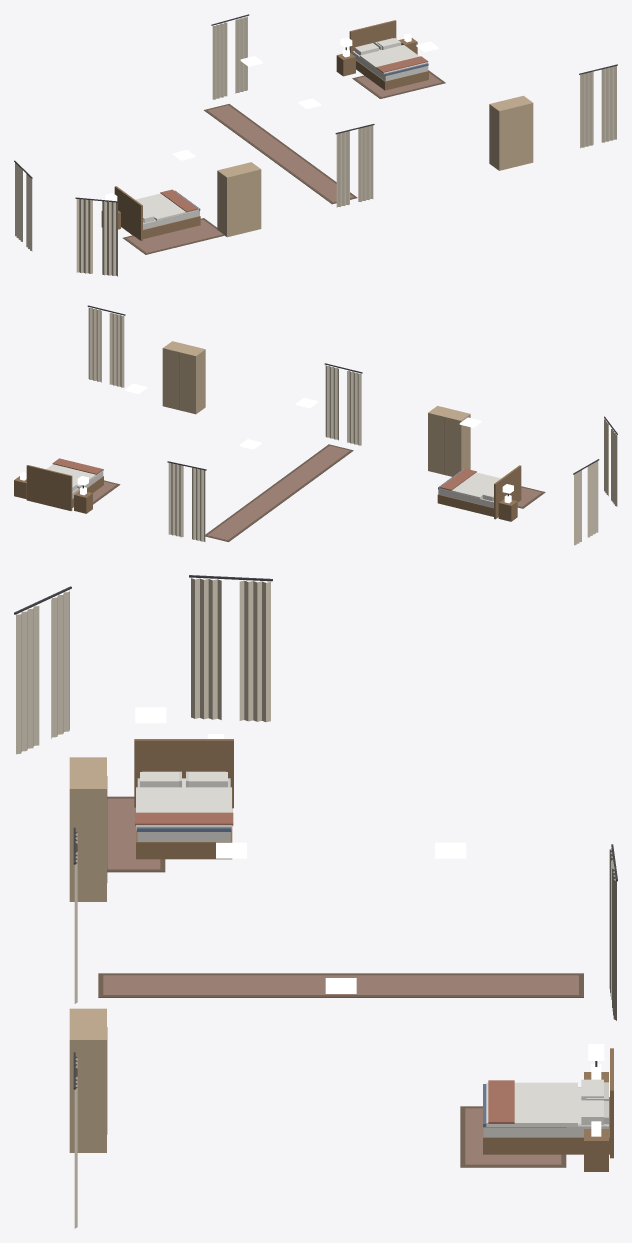
File: fine-s1.glb
3 renders of one model, top to bottom at view 1: azimuth 30°, elevation 25°; view 2: azimuth 150°, elevation 25°; view 3: azimuth 270°, elevation 25°, orthographic. The views are drawn at different scales.
Parts seen in each view (by area): view 1: soft-s1, dresser.001, dresser.000, bed-frame.001, bed-frame.000, nightstand.001; view 2: soft-s1, dresser.001, dresser.000, bed-frame.001, bed-frame.000, nightstand.000, nightstand.001; view 3: soft-s1, bed-frame.000, dresser.000, dresser.001, bed-frame.001, nightstand.002.
Boxes of the visible parts, x1=… form: soft-s1: x1=14, y1=14, x2=617, y2=276; dresser.001: x1=489, y1=95, x2=533, y2=170; dresser.000: x1=217, y1=162, x2=261, y2=237; bed-frame.001: x1=349, y1=20, x2=428, y2=90; bed-frame.000: x1=114, y1=186, x2=200, y2=240; nightstand.001: x1=336, y1=48, x2=355, y2=76; soft-s1: x1=46, y1=305, x2=617, y2=545; dresser.001: x1=162, y1=341, x2=205, y2=414; dresser.000: x1=428, y1=406, x2=470, y2=476; bed-frame.001: x1=26, y1=465, x2=103, y2=510; bed-frame.000: x1=437, y1=465, x2=521, y2=519; nightstand.000: x1=498, y1=494, x2=517, y2=521; nightstand.001: x1=74, y1=487, x2=92, y2=513; soft-s1: x1=14, y1=575, x2=617, y2=1228; bed-frame.000: x1=134, y1=739, x2=233, y2=859; dresser.000: x1=69, y1=757, x2=107, y2=901; dresser.001: x1=69, y1=1008, x2=107, y2=1152; bed-frame.001: x1=483, y1=1048, x2=613, y2=1158; nightstand.002: x1=584, y1=1121, x2=608, y2=1171.
Bounding box in the file's own units: 19.48 × 2.56 × 9.7.
